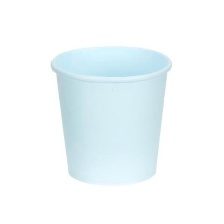paper_cup: (45, 40, 176, 190)
